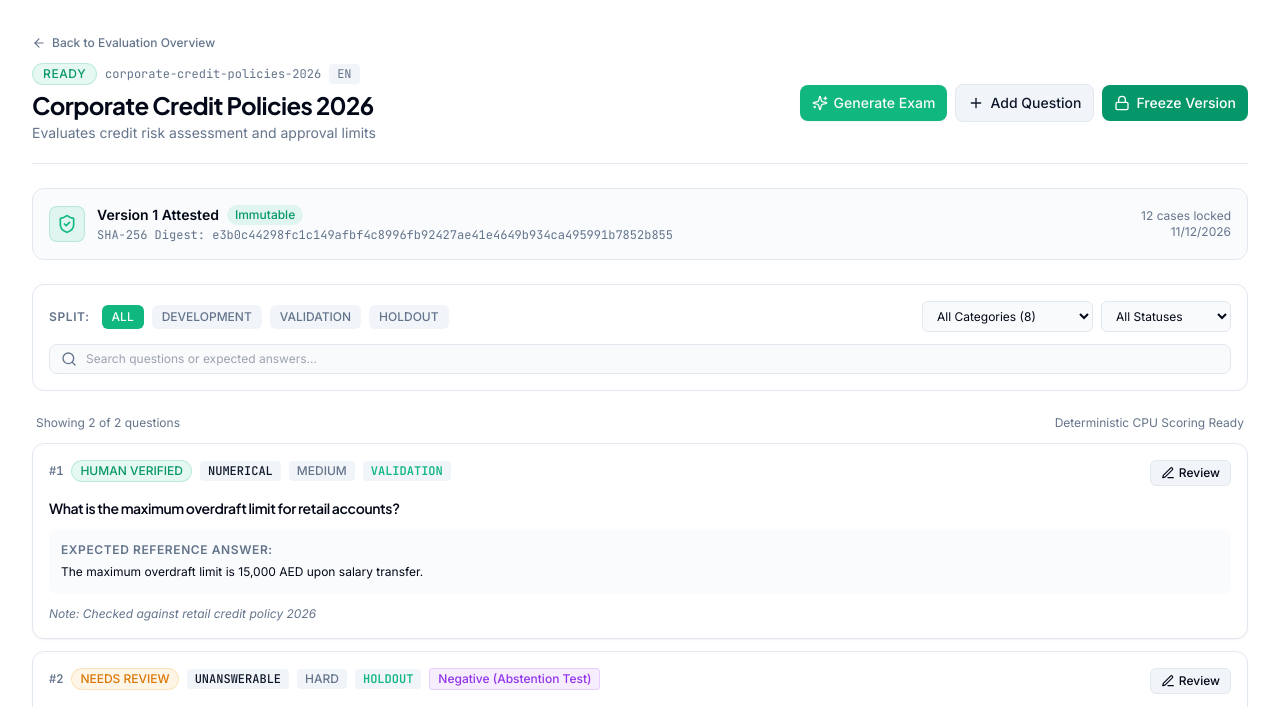
Test: Evaluation Centre Frontend › renders EvaluationSuiteDetailPage with version banner, case list, and review drawer
Check: the heading "Corporate Credit Policies 2026" is shown, box [32,89,376,121]
Check: the text "Version 1 Attested" is shown, box [97,205,219,225]
Note: Open review modal
Click the button "Review" in the row of "MEDIUM". click: [1190, 473]
box: [1150,460,1231,486]
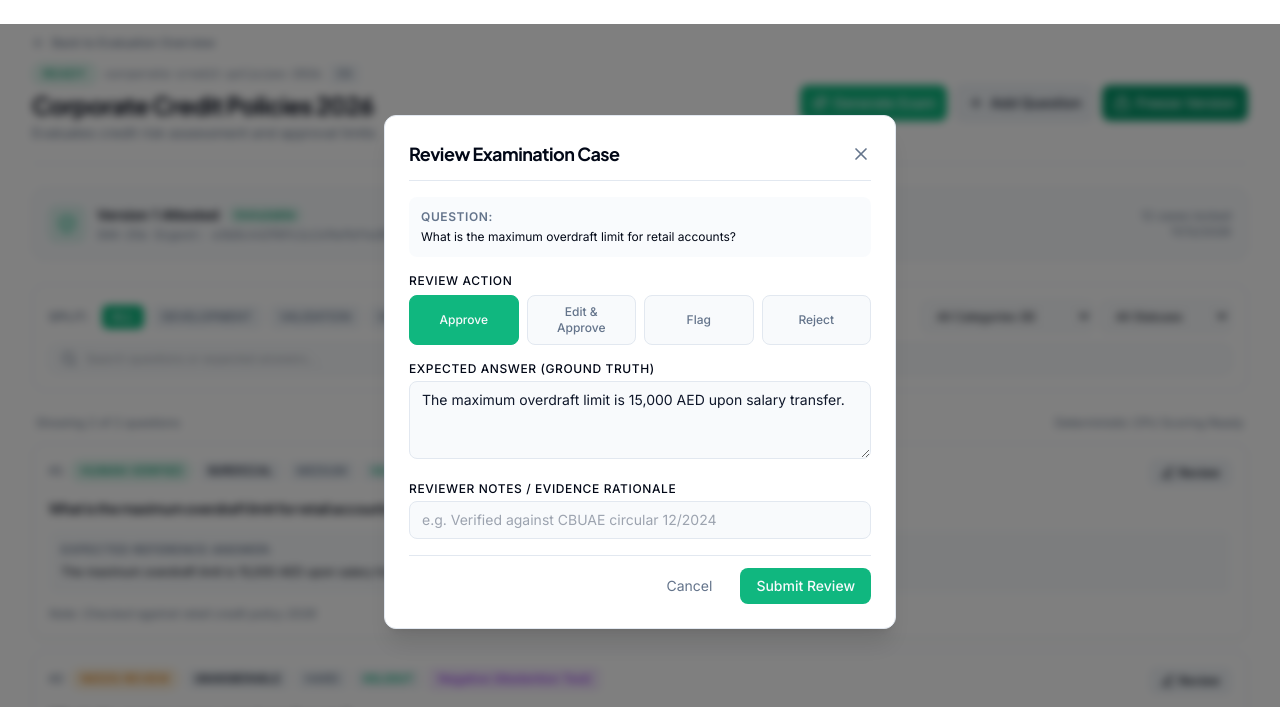
Check: the heading "Review Examination Case" is shown, box [409,140,620,168]
Check: the text "Review Action" is shown, box [409,273,512,288]
